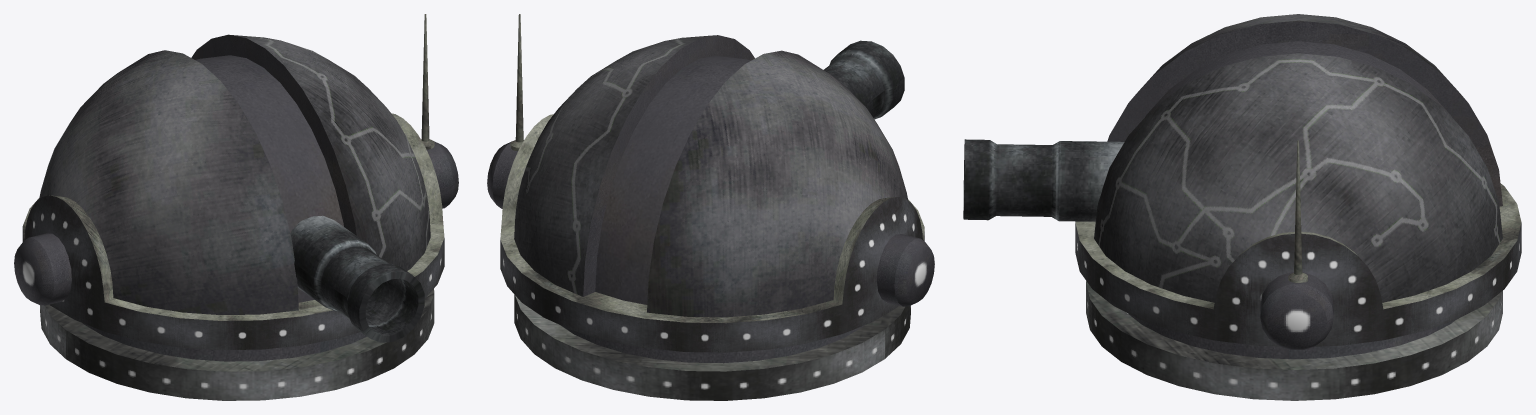
Rendered from Static_Drone.FBX.
The picture shows the model from 3 angles, left to right: view 1: azimuth 30°, elevation 25°; view 2: azimuth 150°, elevation 25°; view 3: azimuth 270°, elevation 25°; orthographic projection. The views are drawn at different scales.
Visible parts, largest first — view 1: Static Drone Body, Static Drone Base, Static Drone Gun, Static Drone Antennae; view 2: Static Drone Body, Static Drone Base, Static Drone Gun, Static Drone Antennae; view 3: Static Drone Body, Static Drone Base, Static Drone Gun, Static Drone Antennae.
Boxes of the visible parts, x1=… form: Static Drone Body: x1=14, y1=34, x2=458, y2=361; Static Drone Base: x1=40, y1=289, x2=434, y2=400; Static Drone Gun: x1=290, y1=215, x2=424, y2=342; Static Drone Antennae: x1=421, y1=14, x2=434, y2=149; Static Drone Body: x1=487, y1=35, x2=934, y2=363; Static Drone Base: x1=514, y1=294, x2=910, y2=400; Static Drone Gun: x1=824, y1=40, x2=904, y2=119; Static Drone Antennae: x1=510, y1=14, x2=523, y2=150; Static Drone Body: x1=1075, y1=14, x2=1521, y2=359; Static Drone Base: x1=1086, y1=281, x2=1502, y2=400; Static Drone Gun: x1=963, y1=139, x2=1124, y2=221; Static Drone Antennae: x1=1288, y1=140, x2=1307, y2=282.
Bounding box in the file's own units: 1.11 × 0.6652 × 1.22.
